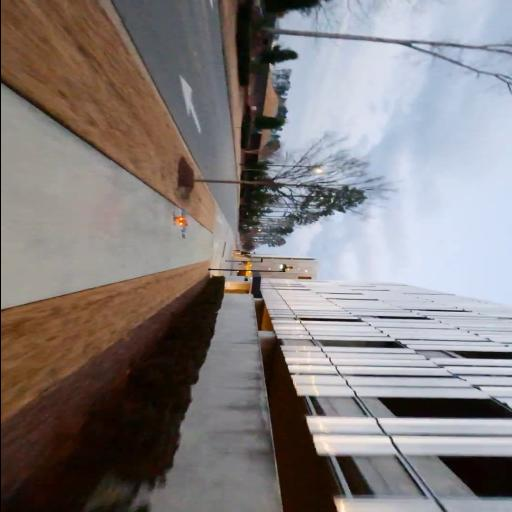uav: (164, 200, 193, 238)
